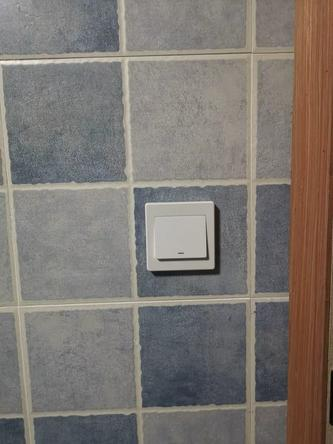switch: (150, 210, 212, 265)
